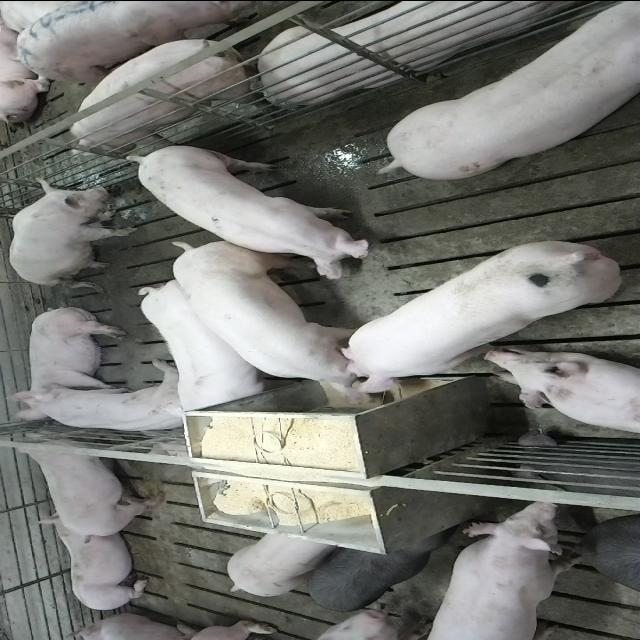Feeding: (334, 237, 624, 399), (168, 236, 384, 406)
Lateral_lying: (11, 302, 130, 395)
Sitting: (8, 177, 138, 286), (12, 369, 195, 435)
Standing: (383, 0, 640, 176), (121, 141, 377, 273), (69, 32, 278, 160), (414, 500, 582, 639), (8, 0, 270, 80), (132, 278, 276, 414), (9, 434, 168, 540), (303, 528, 457, 610), (227, 530, 338, 596), (584, 514, 638, 600)
Sternal_lying: (484, 348, 640, 436), (39, 520, 152, 611)
